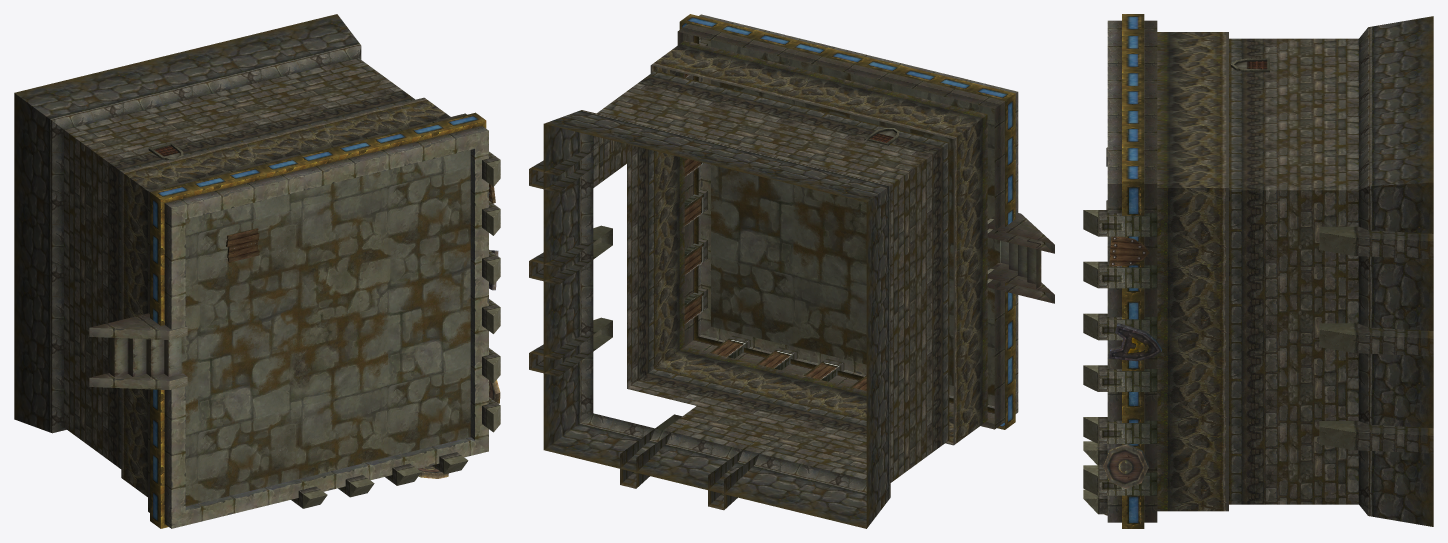
Rendered from juqing_yewai_564_zhucheng06.obj.
The picture shows the model from 3 angles, left to right: view 1: azimuth 30°, elevation 25°; view 2: azimuth 150°, elevation 25°; view 3: azimuth 270°, elevation 25°; orthographic projection. The views are drawn at different scales.
Visible parts, largest first — view 1: juqing_yewai_564_zhucheng06; view 2: juqing_yewai_564_zhucheng06; view 3: juqing_yewai_564_zhucheng06.
Part boxes in pixels (x1,y1,x2,y2): juqing_yewai_564_zhucheng06: (14,14,500,528); juqing_yewai_564_zhucheng06: (529,14,1054,528); juqing_yewai_564_zhucheng06: (1083,14,1433,528).
Size of the model in its own units: 1538 by 1283 by 1122.
Materials: 12 (12 with a texture image).
